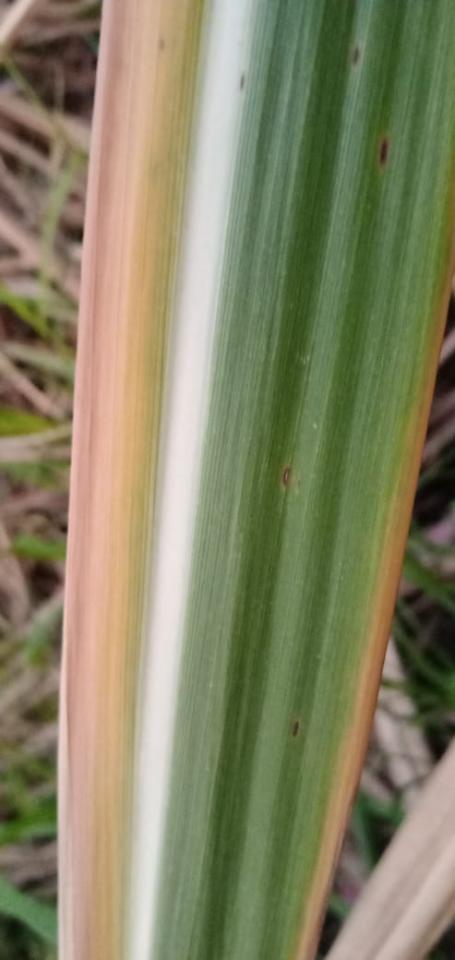Rust: (276, 465, 291, 490), (379, 135, 390, 168), (291, 717, 301, 739), (352, 44, 360, 66), (156, 33, 165, 51), (239, 71, 246, 92)
Yellow: (292, 208, 454, 959), (56, 0, 178, 959)
